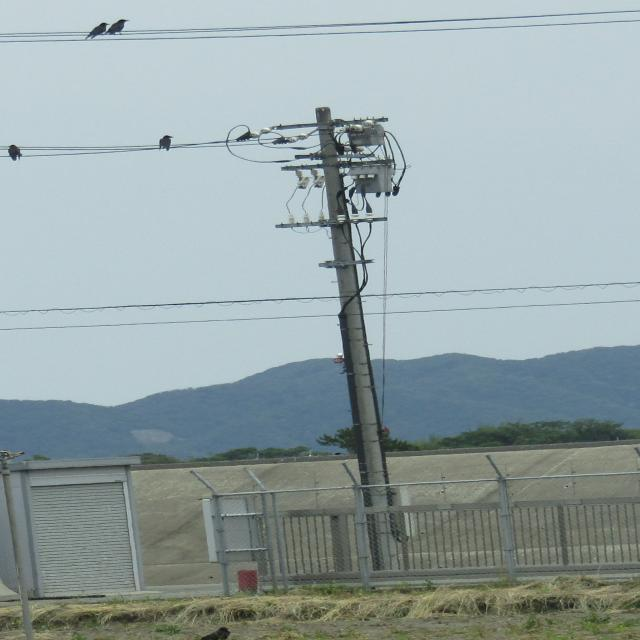pole: (252, 90, 476, 582)
